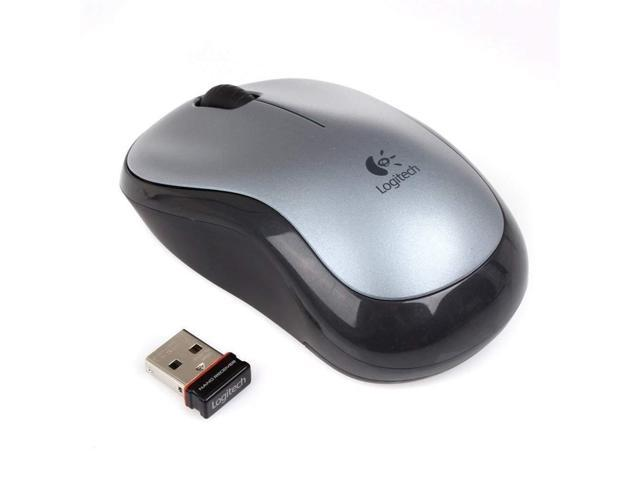logitech-mouse-m185: (117, 68, 533, 424)
